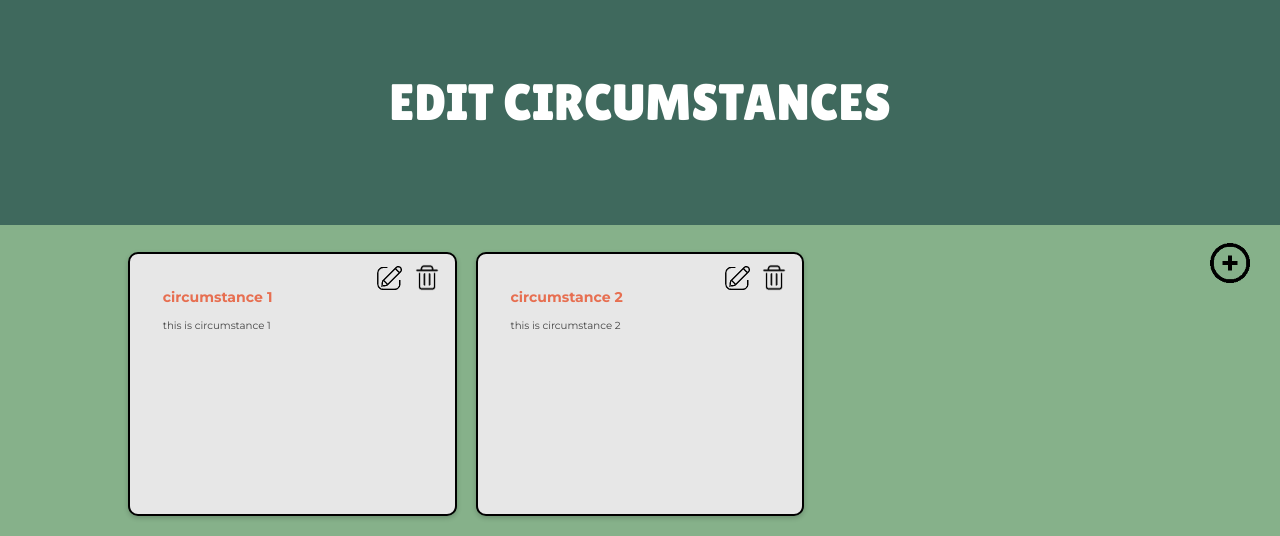
Test: delete circumstance
The width and height of the screenshot is (1280, 536).
Expected: the heading "circumstance 1" is shown, [163,288,272,306]
What coordinates should you click on to do the following:
click the 1st picture titled "Delete"
I would click on:
 (426, 277)
Its box is [414,264,438,291].
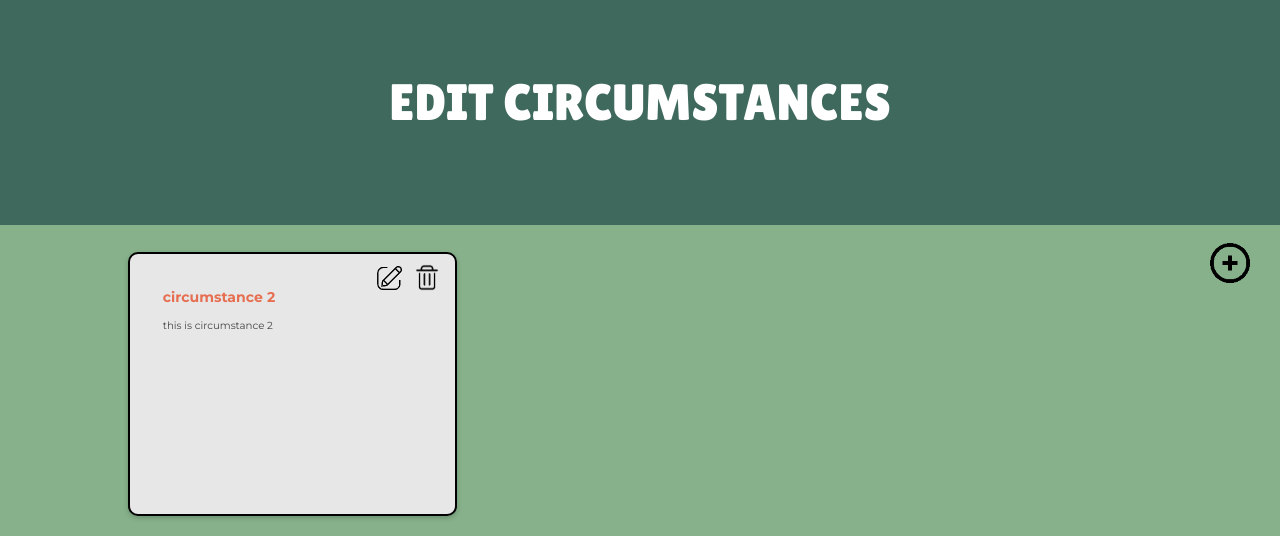
Now the heading "circumstance 1" is gone
